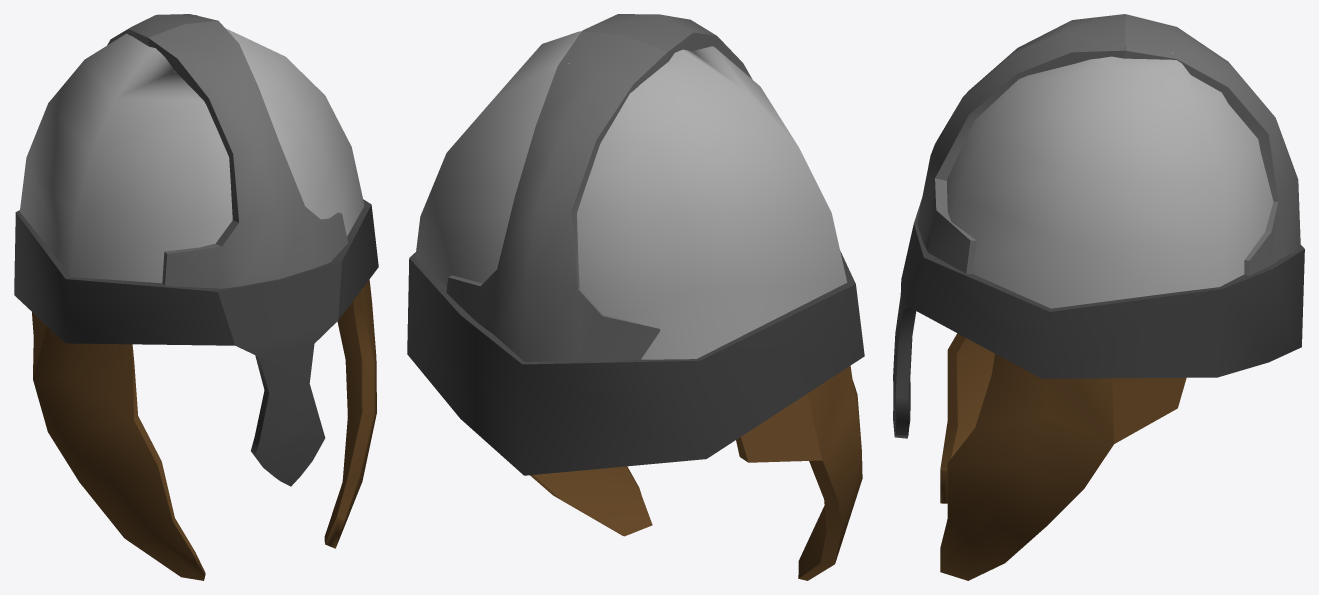
Rendered from Helmet.fbx.
3 renders of one model, left to right at view 1: azimuth 30°, elevation 25°; view 2: azimuth 150°, elevation 25°; view 3: azimuth 270°, elevation 25°, orthographic. The views are drawn at different scales.
Parts seen in each view (by area): view 1: pCube12.001; view 2: pCube12.001; view 3: pCube12.001.
Boxes of the visible parts, <box> form: pCube12.001: <box>14,14,378,580</box>; pCube12.001: <box>407,14,864,580</box>; pCube12.001: <box>893,14,1304,580</box>.
Bounding box in the file's own units: 96.83 × 142 × 103.
